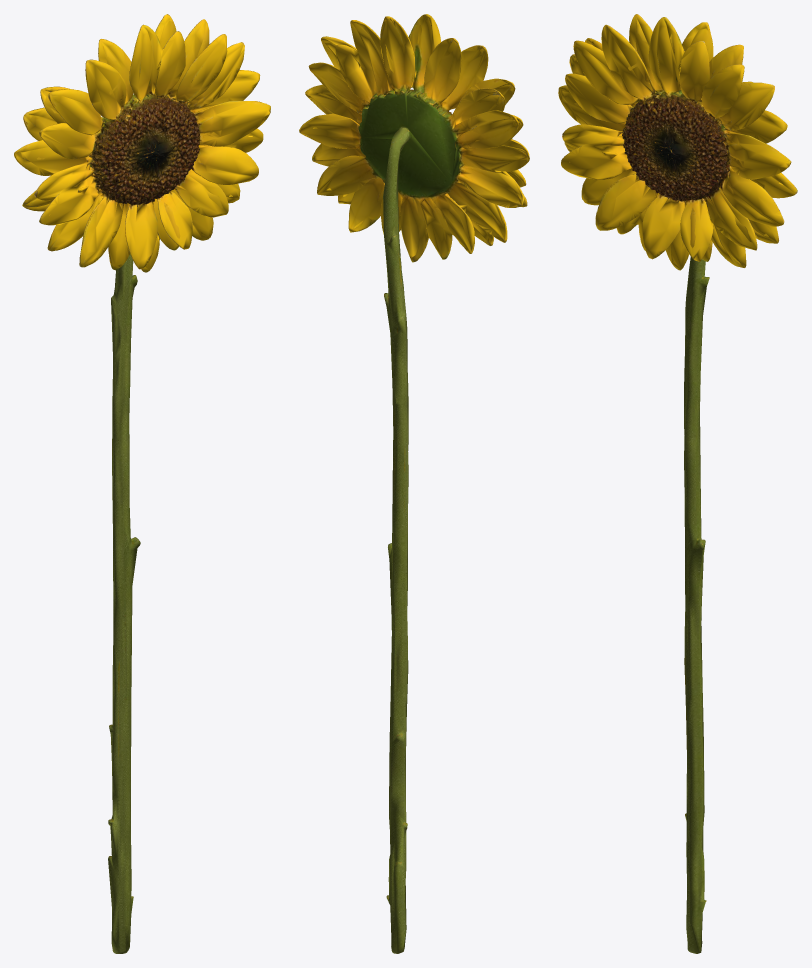
File: sunflower.glb
The picture shows the model from 3 angles, left to right: view 1: azimuth 30°, elevation 25°; view 2: azimuth 150°, elevation 25°; view 3: azimuth 330°, elevation 25°; orthographic projection. The views are drawn at different scales.
Size of the model in its own units: 0.5145 by 1.91 by 0.137.
Materials: 1 (1 with a texture image).
